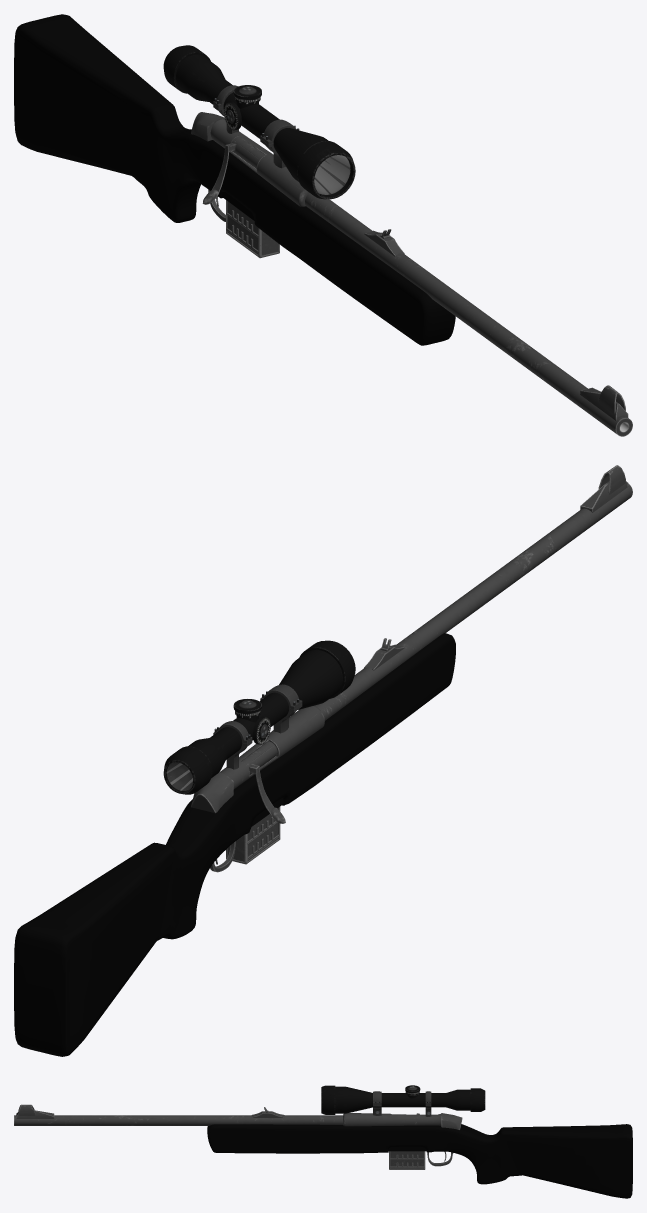
Rendered from steyr-ssg-69.glb.
3 views of the same model, one above another, from view 1: azimuth 30°, elevation 25°; view 2: azimuth 150°, elevation 25°; view 3: azimuth 270°, elevation 25° (orthographic). The views are drawn at different scales.
Visible parts, largest first — view 1: body_sniper_0, stvol_sniper_0, scope_sniper_0, mag001_sniper mag_0, ads_sniper_0, glass001_glass_0, reloader002_sniper_0; view 2: body_sniper_0, stvol_sniper_0, scope_sniper_0, ads_sniper_0, mag001_sniper mag_0, reloader002_sniper_0; view 3: body_sniper_0, stvol_sniper_0, scope_sniper_0, mag001_sniper mag_0, ads_sniper_0.
Boxes of the visible parts, x1,y1,x2,y2 form: body_sniper_0: [14, 14, 455, 345]; stvol_sniper_0: [191, 112, 632, 436]; scope_sniper_0: [163, 45, 355, 199]; mag001_sniper mag_0: [226, 200, 279, 258]; ads_sniper_0: [208, 85, 299, 221]; glass001_glass_0: [314, 155, 350, 194]; reloader002_sniper_0: [202, 136, 264, 204]; body_sniper_0: [14, 633, 455, 1056]; stvol_sniper_0: [191, 465, 632, 813]; scope_sniper_0: [163, 640, 355, 794]; ads_sniper_0: [210, 684, 302, 872]; mag001_sniper mag_0: [226, 806, 280, 864]; reloader002_sniper_0: [241, 741, 285, 823]; body_sniper_0: [207, 1124, 632, 1198]; stvol_sniper_0: [14, 1104, 462, 1129]; scope_sniper_0: [321, 1085, 485, 1114]; mag001_sniper mag_0: [389, 1151, 425, 1169]; ads_sniper_0: [373, 1091, 453, 1166].
Size of the model in its own units: 0.0674 by 0.1926 by 1.01.
Materials: 3 (2 with a texture image).
